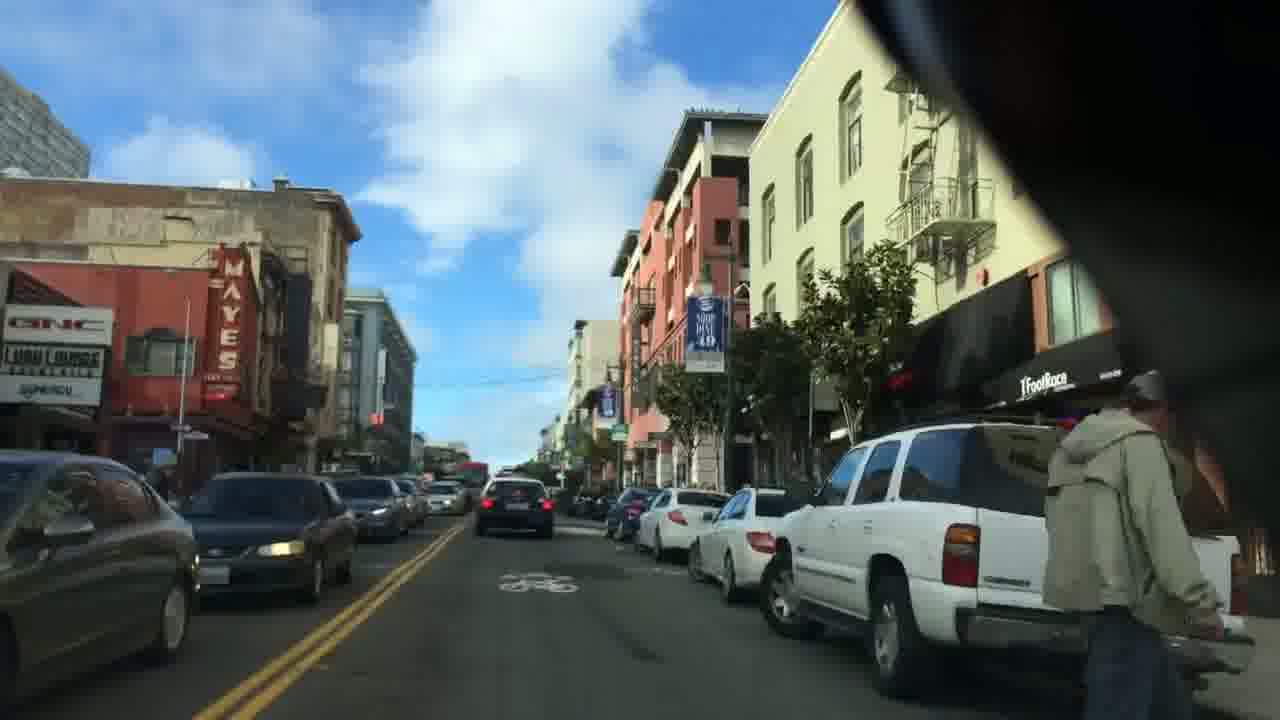car: (756, 407, 1255, 703), (0, 446, 200, 720), (175, 470, 358, 604), (687, 486, 790, 603), (631, 487, 732, 560), (333, 473, 410, 543), (473, 475, 553, 539), (603, 487, 662, 540), (422, 479, 467, 517)
pedestrian: (1036, 365, 1228, 720)
